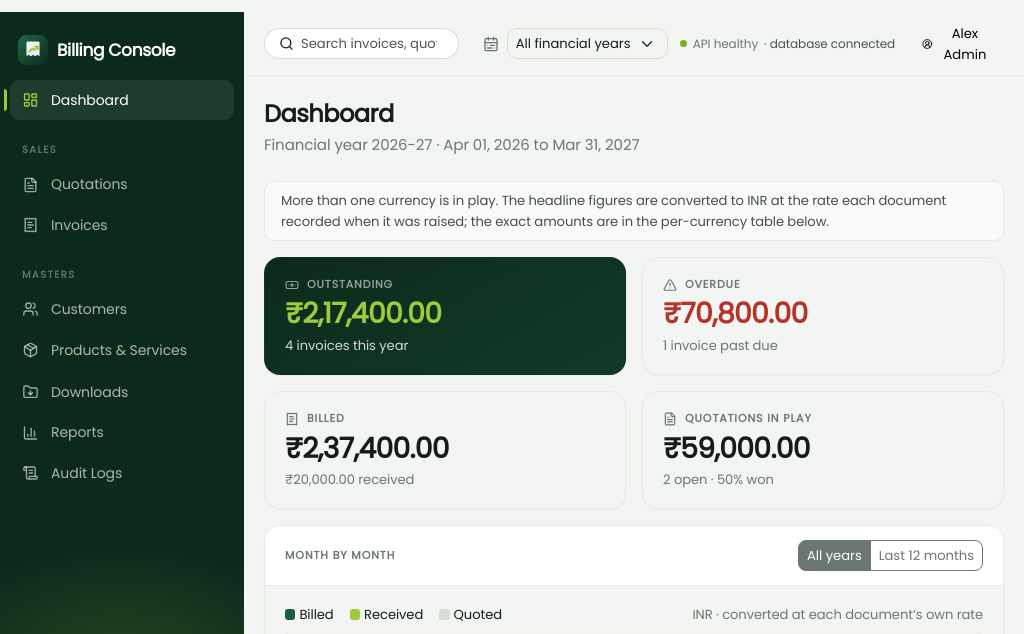
Test: global search › says so when nothing matched instead of showing an empty box
This screenshot has width=1024, height=634.
Check: the heading "Dashboard" is shown, box [264, 97, 394, 130]
Step 1. Type "zzzz" into the dropdown named "Global search" → (380, 44), box [301, 28, 459, 59]
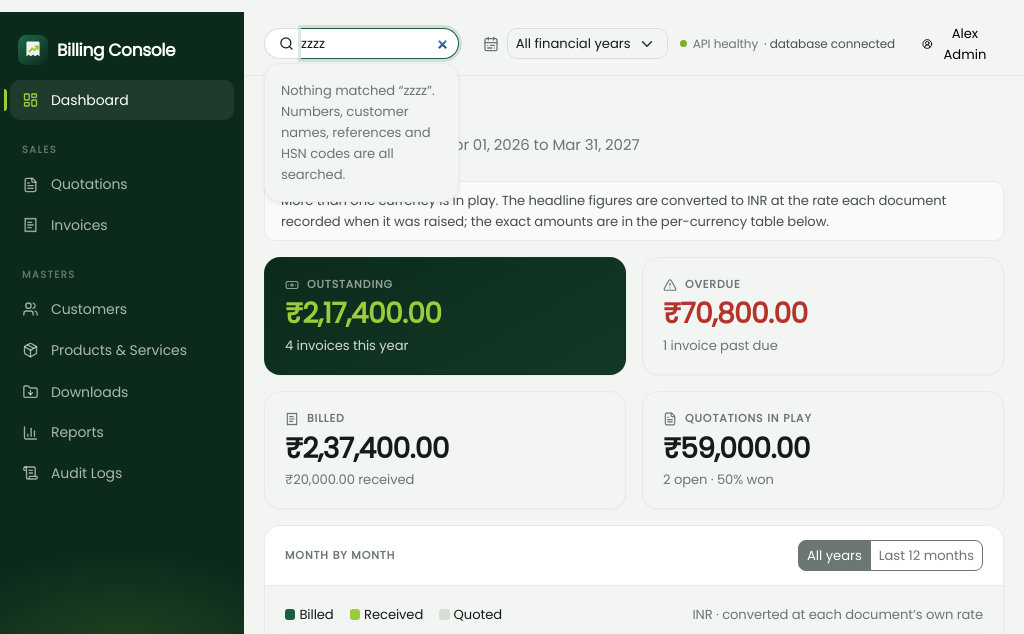
Check: the text "Nothing matched" is shown, box [281, 81, 403, 100]
